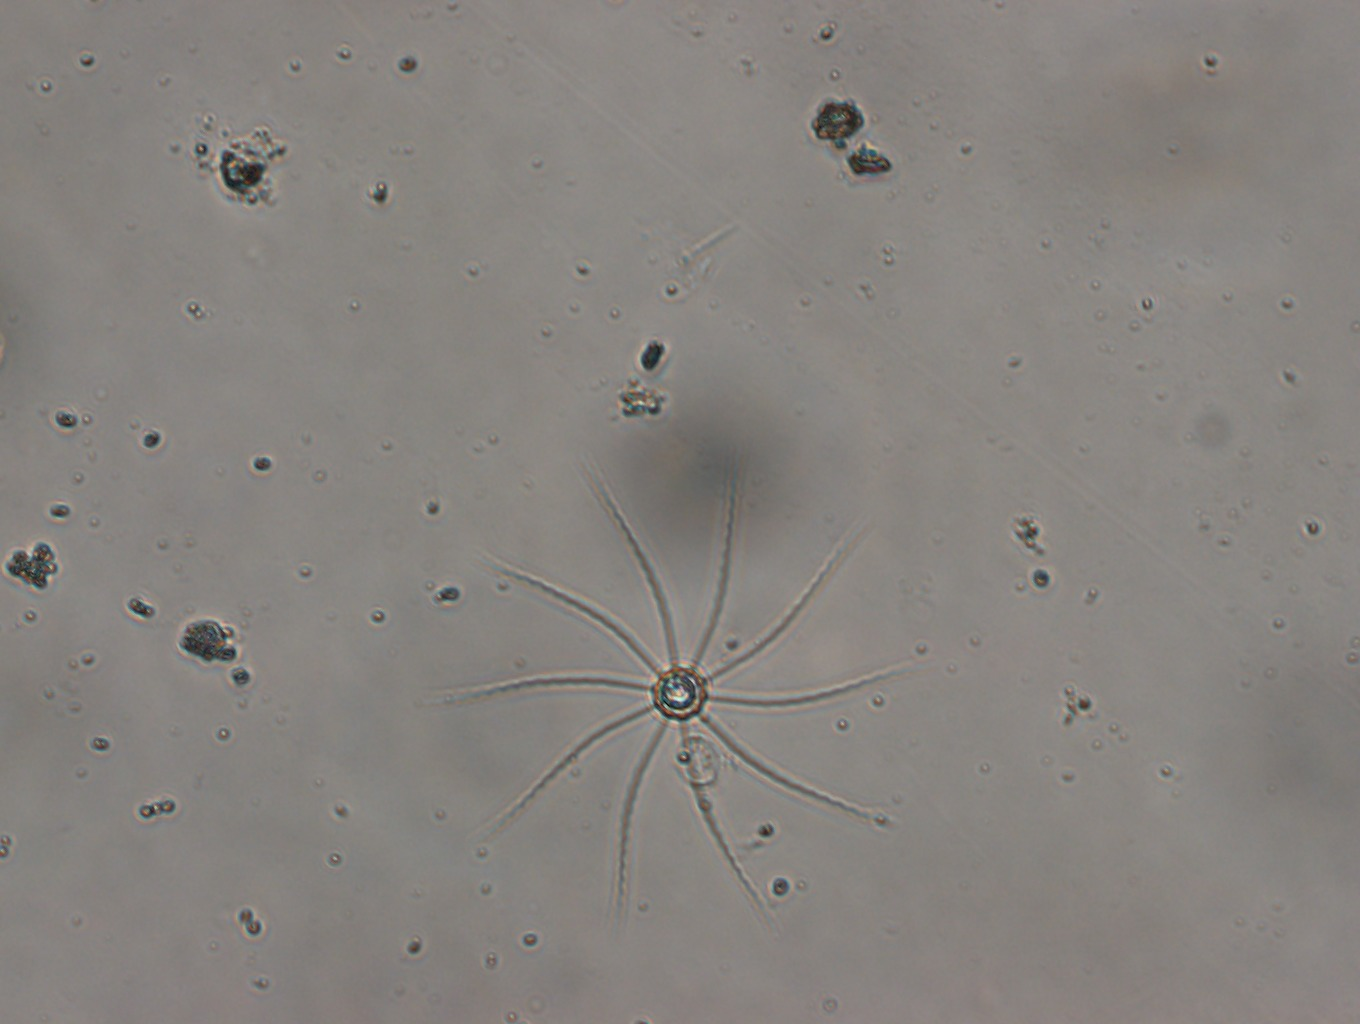bacteriastrum: (446, 463, 913, 933)
